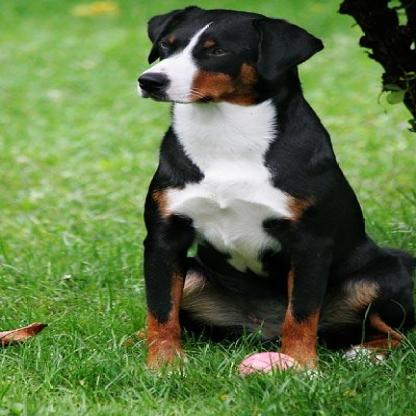Appenzeller: (102, 1, 413, 387)
